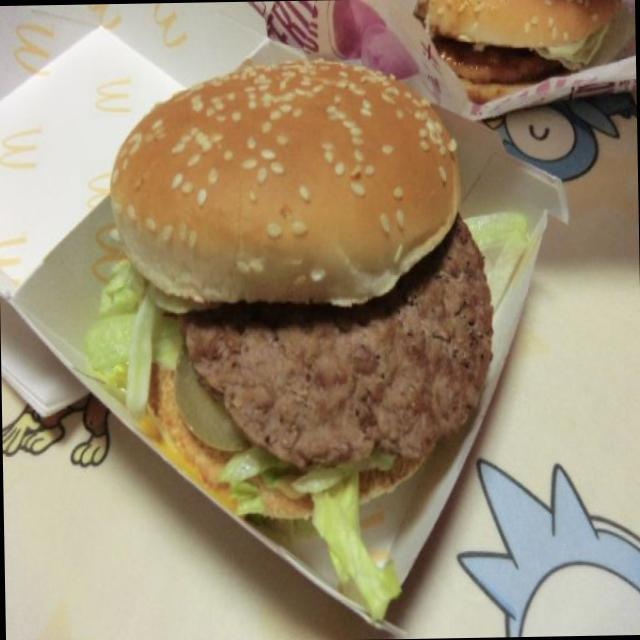Hamburger: (96, 45, 506, 512)
